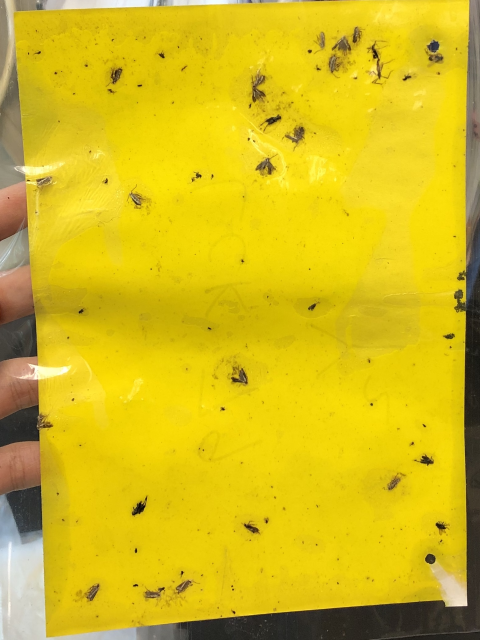DBM: (82, 580, 111, 609), (253, 150, 281, 179), (122, 182, 148, 209), (324, 50, 345, 81), (34, 410, 60, 433), (328, 34, 354, 56), (246, 85, 269, 109), (245, 67, 269, 89), (106, 64, 125, 90), (32, 172, 59, 190), (241, 517, 263, 539), (229, 366, 250, 389), (176, 576, 200, 594), (385, 472, 403, 494), (312, 29, 326, 54), (348, 25, 364, 46), (141, 587, 164, 601)
